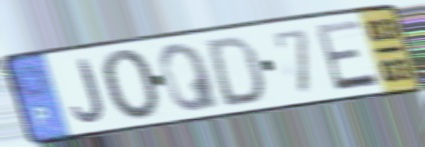7: (271, 27, 314, 97)
D: (205, 33, 267, 110)
E: (312, 17, 383, 94)
J: (69, 56, 107, 125)
O: (98, 47, 164, 124)
Q: (156, 40, 225, 114)
